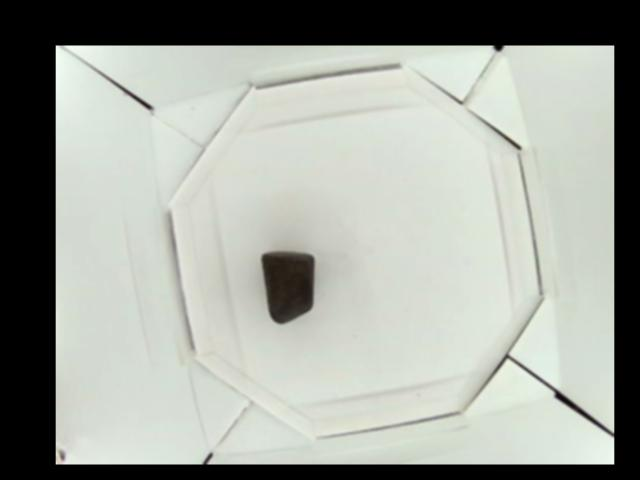Pebble: (264, 249, 313, 324)
